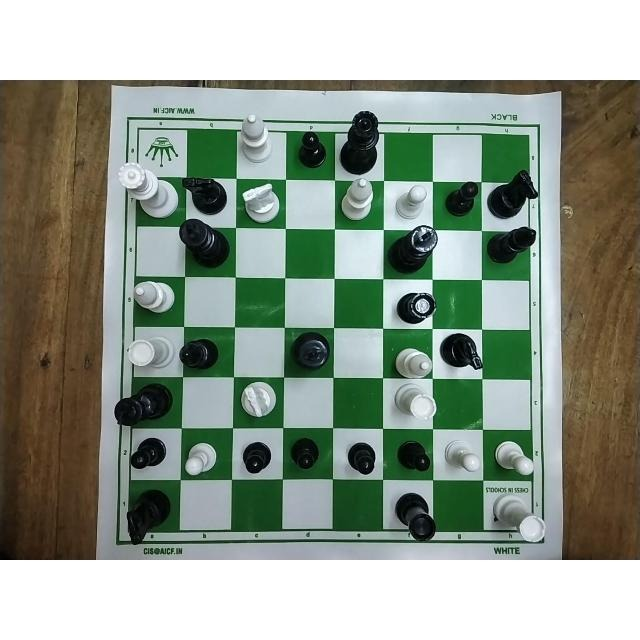black-bishop: (487, 225, 537, 266), (179, 338, 219, 370)
black-king: (176, 218, 230, 268), (113, 382, 173, 426), (387, 225, 436, 273), (291, 331, 331, 368)
black-knight: (124, 488, 172, 545), (487, 168, 537, 219), (180, 174, 229, 214), (440, 331, 482, 370)
black-pawn: (129, 436, 166, 474), (444, 180, 478, 218), (344, 438, 378, 475), (395, 440, 430, 473), (287, 436, 319, 472), (242, 440, 272, 475), (298, 132, 327, 168)
black-queen: (340, 110, 382, 176)
black-rook: (392, 491, 436, 544), (395, 290, 435, 323)
white-bishop: (238, 113, 273, 162), (131, 278, 175, 315), (339, 177, 373, 221), (390, 346, 433, 378)
white-knight: (238, 183, 282, 225), (234, 379, 277, 421)
white-pawn: (490, 439, 534, 477), (441, 440, 481, 476), (394, 182, 426, 219), (185, 441, 217, 477)
white-queen: (115, 160, 178, 220)
white-rook: (490, 493, 546, 543), (128, 336, 176, 370), (390, 384, 435, 420)
